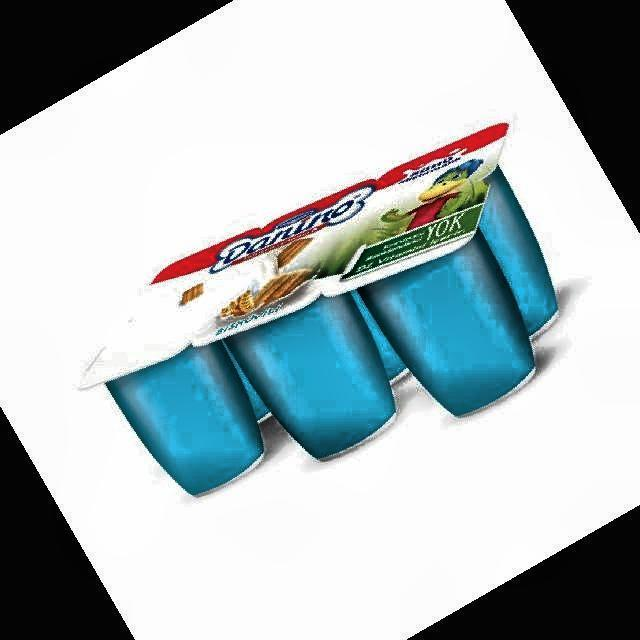plastic: (82, 124, 558, 493)
